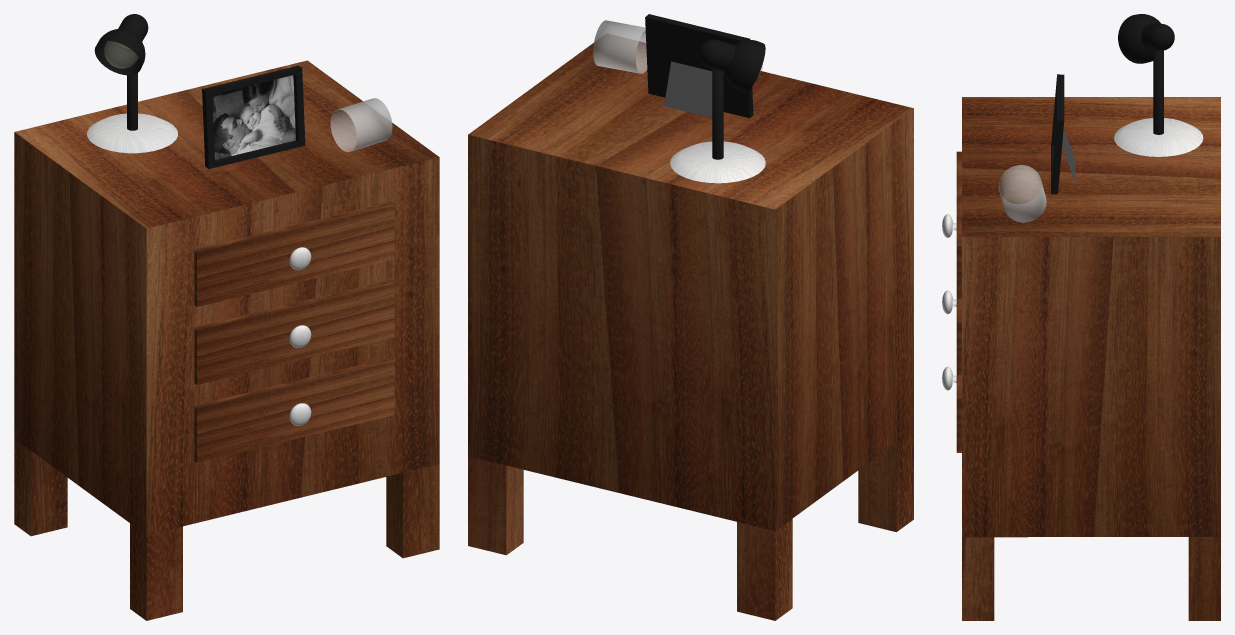
File: nightstand5.fbx
3 renders of one model, left to right at view 1: azimuth 30°, elevation 25°; view 2: azimuth 150°, elevation 25°; view 3: azimuth 270°, elevation 25°, orthographic. The views are drawn at different scales.
Visible parts, largest first — view 1: Nightstand, Picture Frame, Lamp.004, Cup.001; view 2: Nightstand, Picture Frame, Lamp.004, Cup.001; view 3: Nightstand, Lamp.004, Cup.001, Picture Frame.
Part boxes in pixels (x1,y1,x2,y2): Nightstand: (14, 60, 439, 620); Picture Frame: (202, 65, 305, 168); Lamp.004: (87, 14, 177, 153); Cup.001: (330, 98, 392, 152); Nightstand: (468, 41, 913, 620); Picture Frame: (645, 14, 753, 118); Lamp.004: (670, 39, 765, 183); Cup.001: (593, 20, 647, 73); Nightstand: (942, 97, 1220, 620); Lamp.004: (1114, 14, 1203, 156); Cup.001: (998, 165, 1046, 222); Picture Frame: (1051, 74, 1075, 194).
Size of the model in its own units: 200 by 332 by 168.
